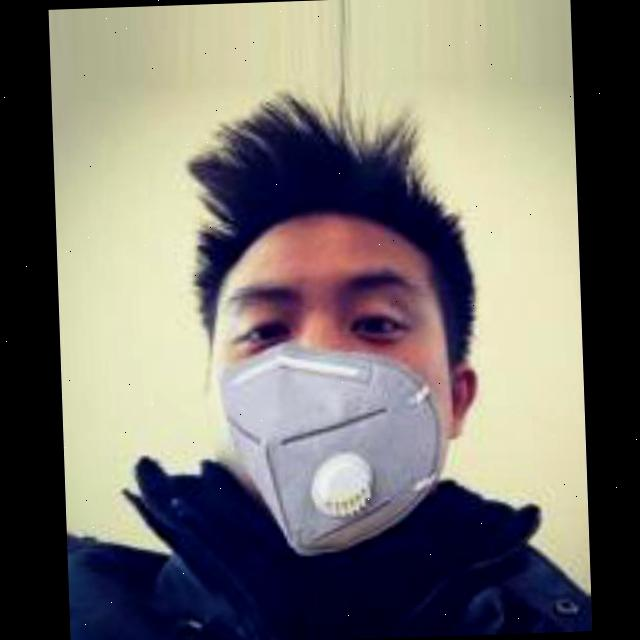suspicion: (186, 132, 494, 573)
